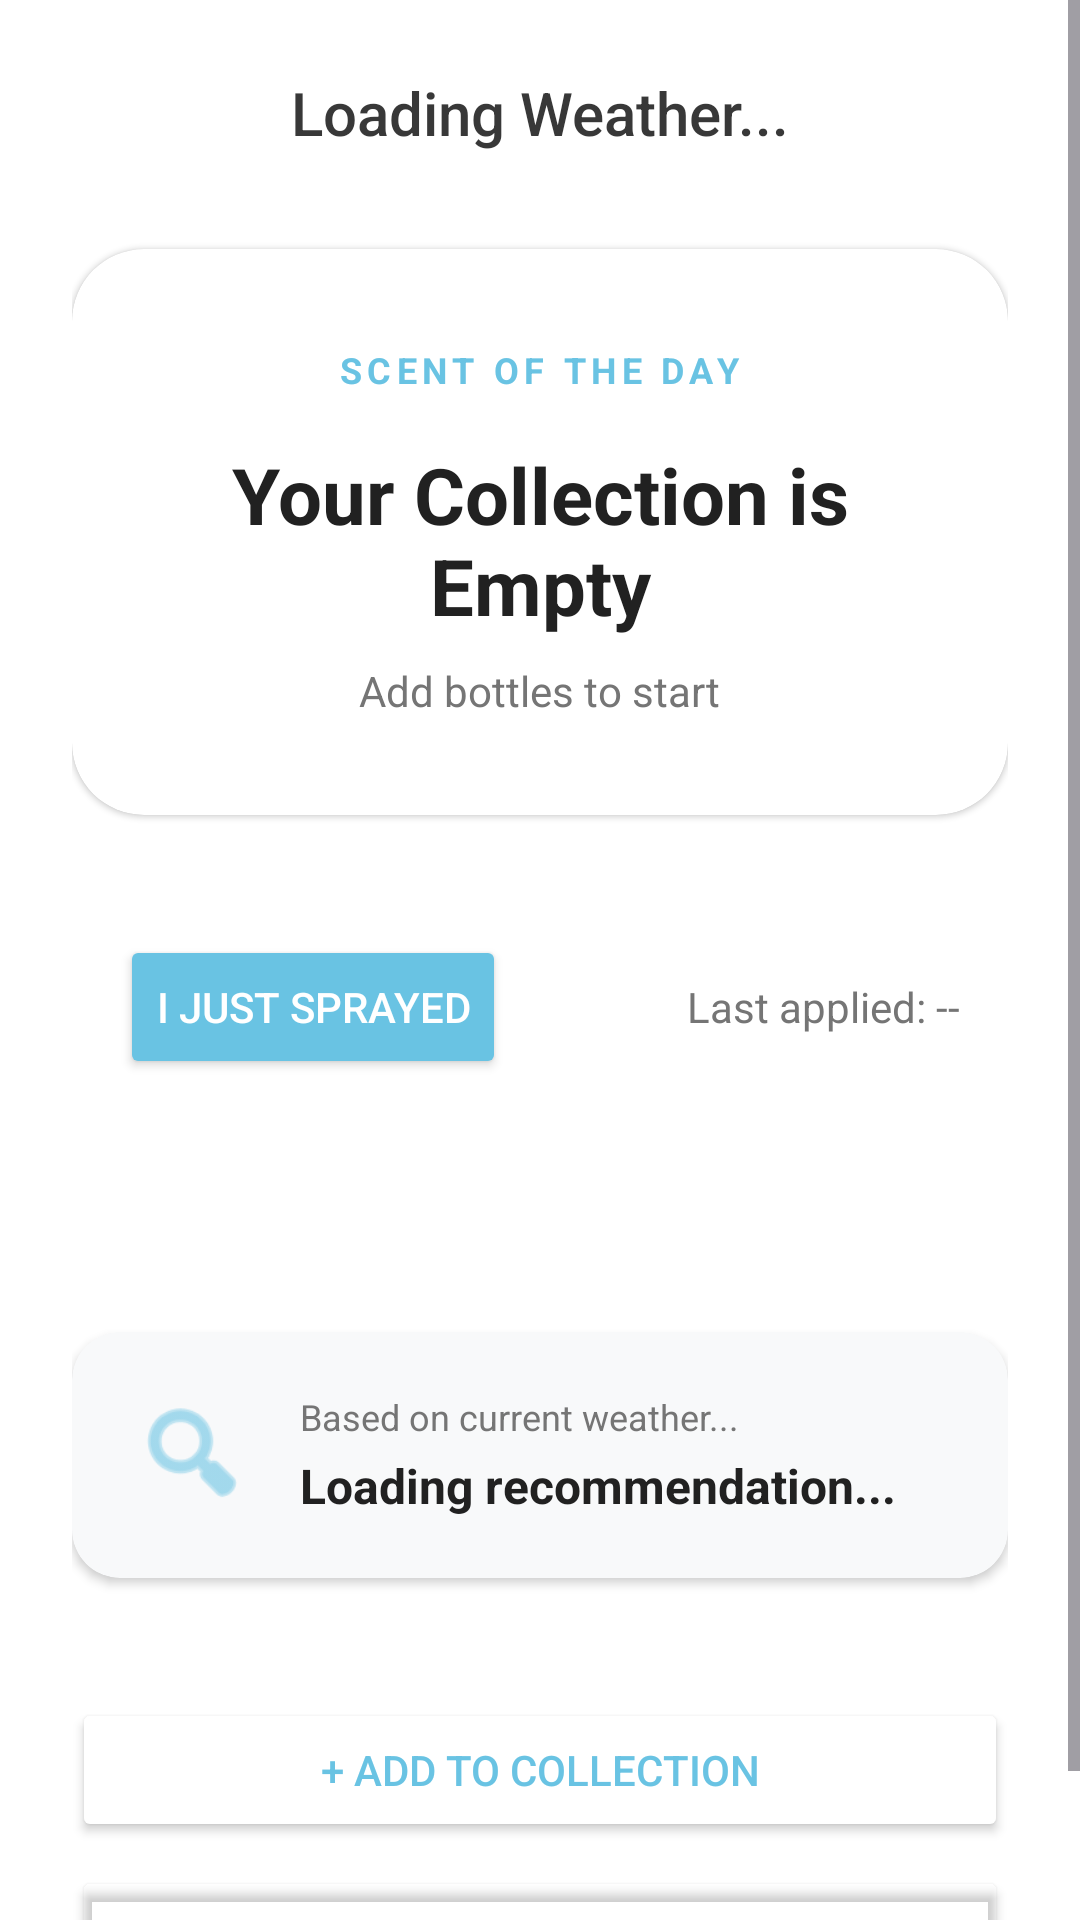

Where icons sit on this 1080 x 1920 app screen, as (x1, y1, x2, y2):
search: (148, 1408, 236, 1497)
